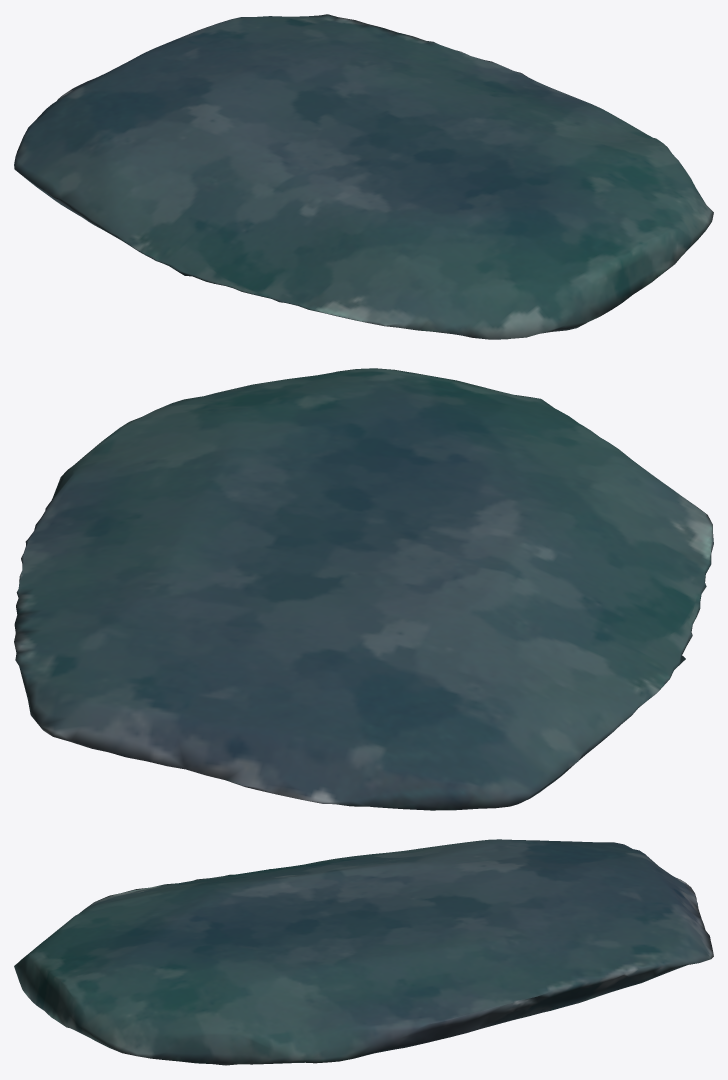
File: FlatRocks2.fbx
3 renders of one model, top to bottom at view 1: azimuth 30°, elevation 25°; view 2: azimuth 150°, elevation 25°; view 3: azimuth 270°, elevation 25°, orthographic. The views are drawn at different scales.
Parts seen in each view (by area): view 1: FlatRocks2; view 2: FlatRocks2; view 3: FlatRocks2.
Boxes of the visible parts, x1=… form: FlatRocks2: x1=14, y1=14, x2=713, y2=339; FlatRocks2: x1=14, y1=368, x2=713, y2=810; FlatRocks2: x1=14, y1=839, x2=713, y2=1065.
Bounding box in the file's own units: 293 × 52.91 × 372.
Materials: 1 (1 with a texture image).
